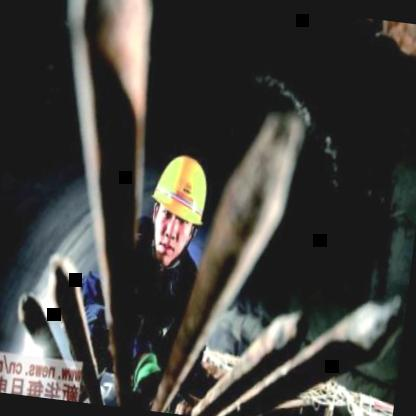helmet: (137, 140, 216, 277)
